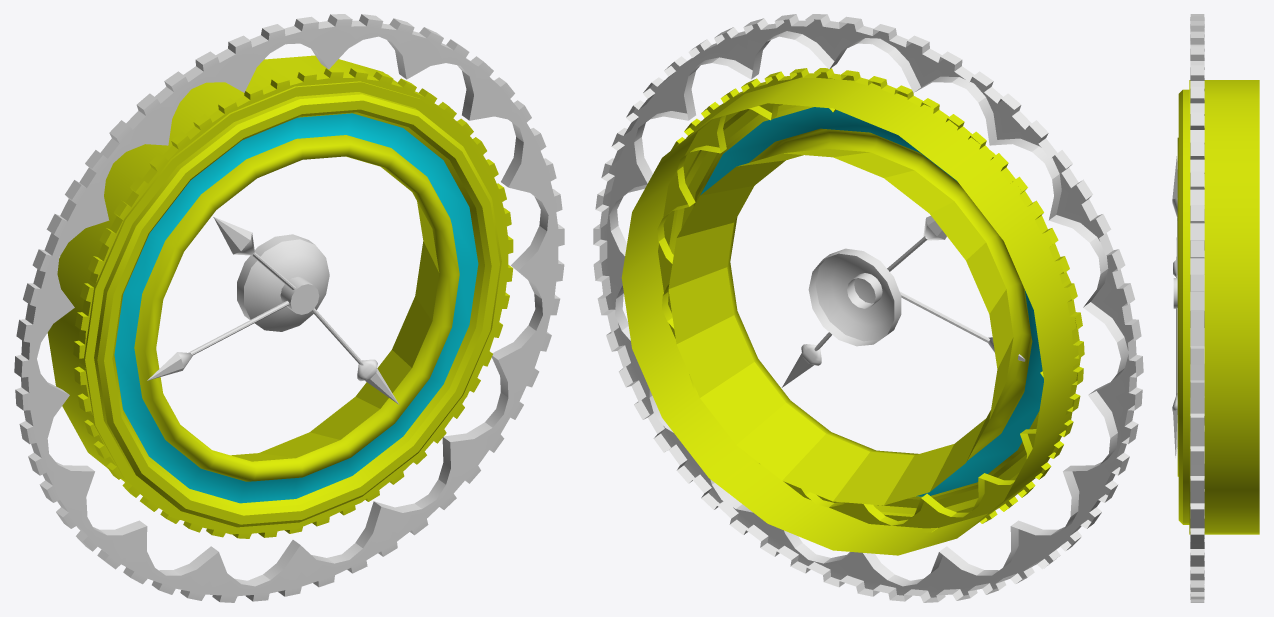
The model's file is Clock001.fbx.
3 views of the same model, side by side, from view 1: azimuth 30°, elevation 25°; view 2: azimuth 150°, elevation 25°; view 3: azimuth 270°, elevation 25° (orthographic). The views are drawn at different scales.
Parts seen in each view (by area): view 1: Clock_Outer_Ring, outer_gear17, outer_gear18, Clock_Center, Center, tophand, pasted__pCone1; view 2: Clock_Outer_Ring, outer_gear17, outer_gear18, Clock_Center; view 3: Clock_Outer_Ring, outer_gear17, pasted__pCone1, tophand, bottom_arm, Center.
Boxes of the visible parts, x1,y1,x2,y2 form: Clock_Outer_Ring: (47,55,507,534); outer_gear17: (14,14,564,602); outer_gear18: (73,68,513,538); Clock_Center: (237,234,329,331); Center: (280,277,319,314); tophand: (213,217,254,255); pasted__pCone1: (357,359,399,404); Clock_Outer_Ring: (621,77,1080,555); outer_gear17: (593,14,1143,602); outer_gear18: (657,68,1084,532); Clock_Center: (808,248,901,346); Clock_Outer_Ring: (1177,80,1259,534); outer_gear17: (1190,14,1204,602); pasted__pCone1: (1172,393,1177,457); tophand: (1172,156,1177,217); bottom_arm: (1176,308,1177,395); Center: (1173,278,1177,308).
Bounding box in the file's own units: 16.75 × 16.76 × 2.49.
